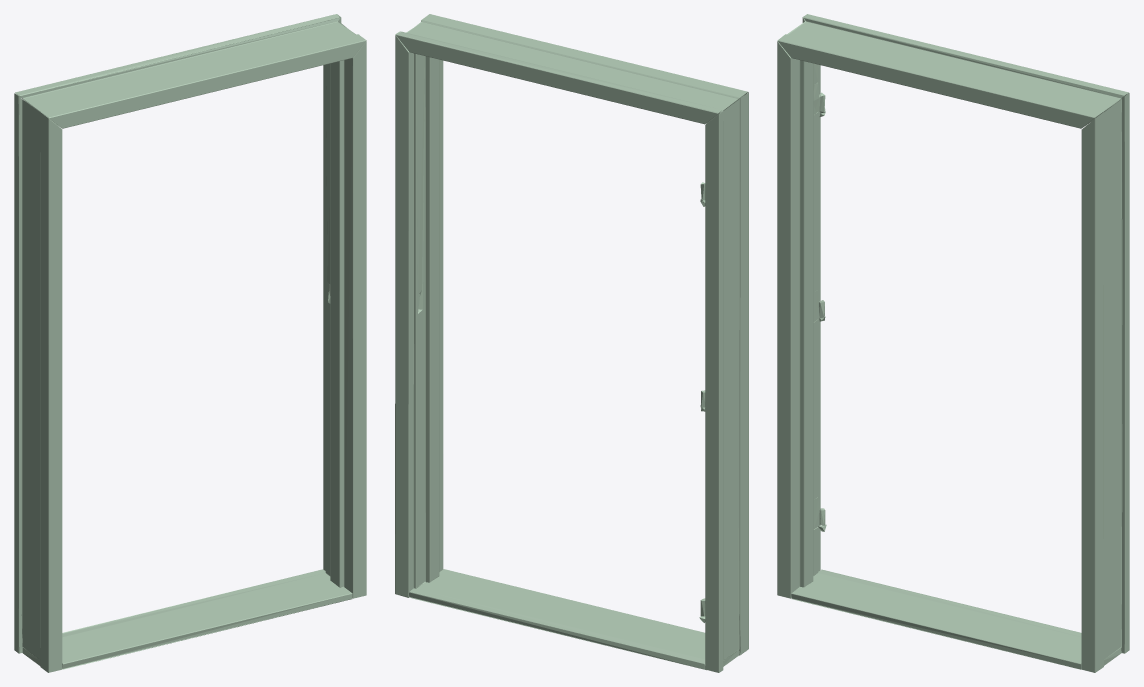
File: SM_FrontDoor_A_Frame.fbx
The picture shows the model from 3 angles, left to right: view 1: azimuth 30°, elevation 25°; view 2: azimuth 150°, elevation 25°; view 3: azimuth 330°, elevation 25°; orthographic projection.
Visible parts, largest first — view 1: SM_FrontDoor_A_Frame; view 2: SM_FrontDoor_A_Frame; view 3: SM_FrontDoor_A_Frame.
Boxes of the visible parts, x1,y1,x2,y2 form: SM_FrontDoor_A_Frame: (14,14,366,672); SM_FrontDoor_A_Frame: (395,14,748,672); SM_FrontDoor_A_Frame: (777,14,1129,672).
Size of the model in its own units: 139 by 24.38 by 230.
